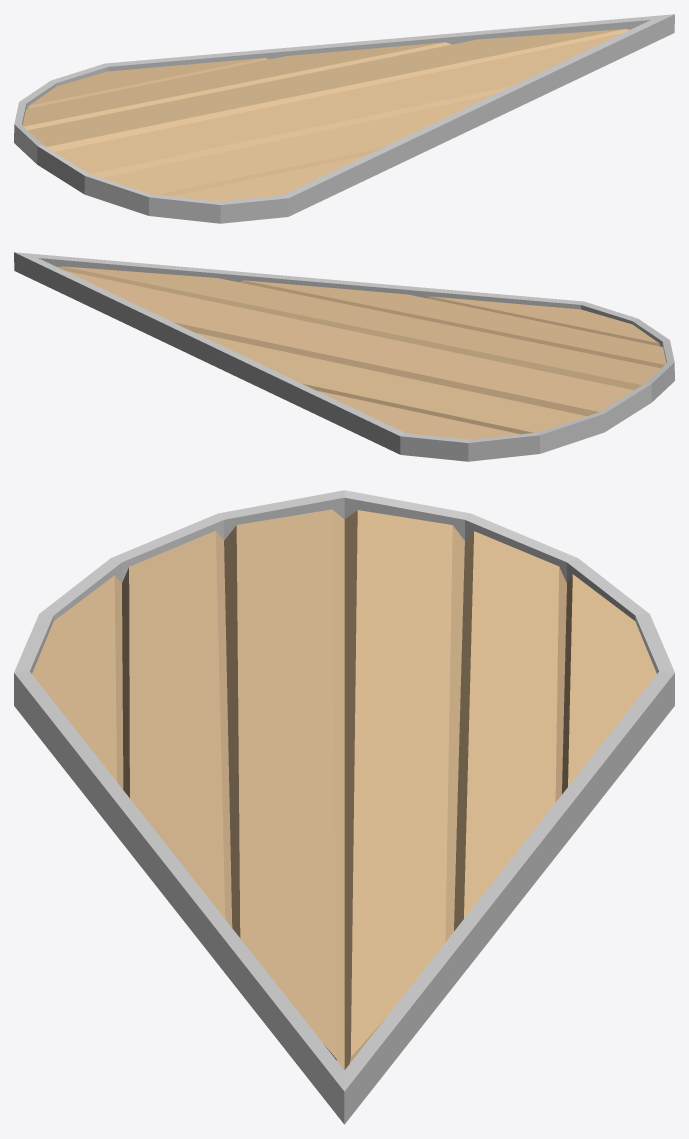
File: Shield_3_a_wood.fbx
3 views of the same model, one above another, from view 1: azimuth 30°, elevation 25°; view 2: azimuth 150°, elevation 25°; view 3: azimuth 270°, elevation 25° (orthographic). The views are drawn at different scales.
Parts seen in each view (by area): view 1: Circle.031, Circle.032; view 2: Circle.031, Circle.032; view 3: Circle.031, Circle.032.
Boxes of the visible parts, x1=… form: Circle.031: x1=22, y1=29, x2=629, y2=201; Circle.032: x1=14, y1=14, x2=674, y2=223; Circle.031: x1=57, y1=266, x2=666, y2=439; Circle.032: x1=14, y1=252, x2=674, y2=461; Circle.031: x1=32, y1=509, x2=656, y2=1070; Circle.032: x1=14, y1=490, x2=674, y2=1124.
Size of the model in its own units: 147 by 16.22 by 73.5.
